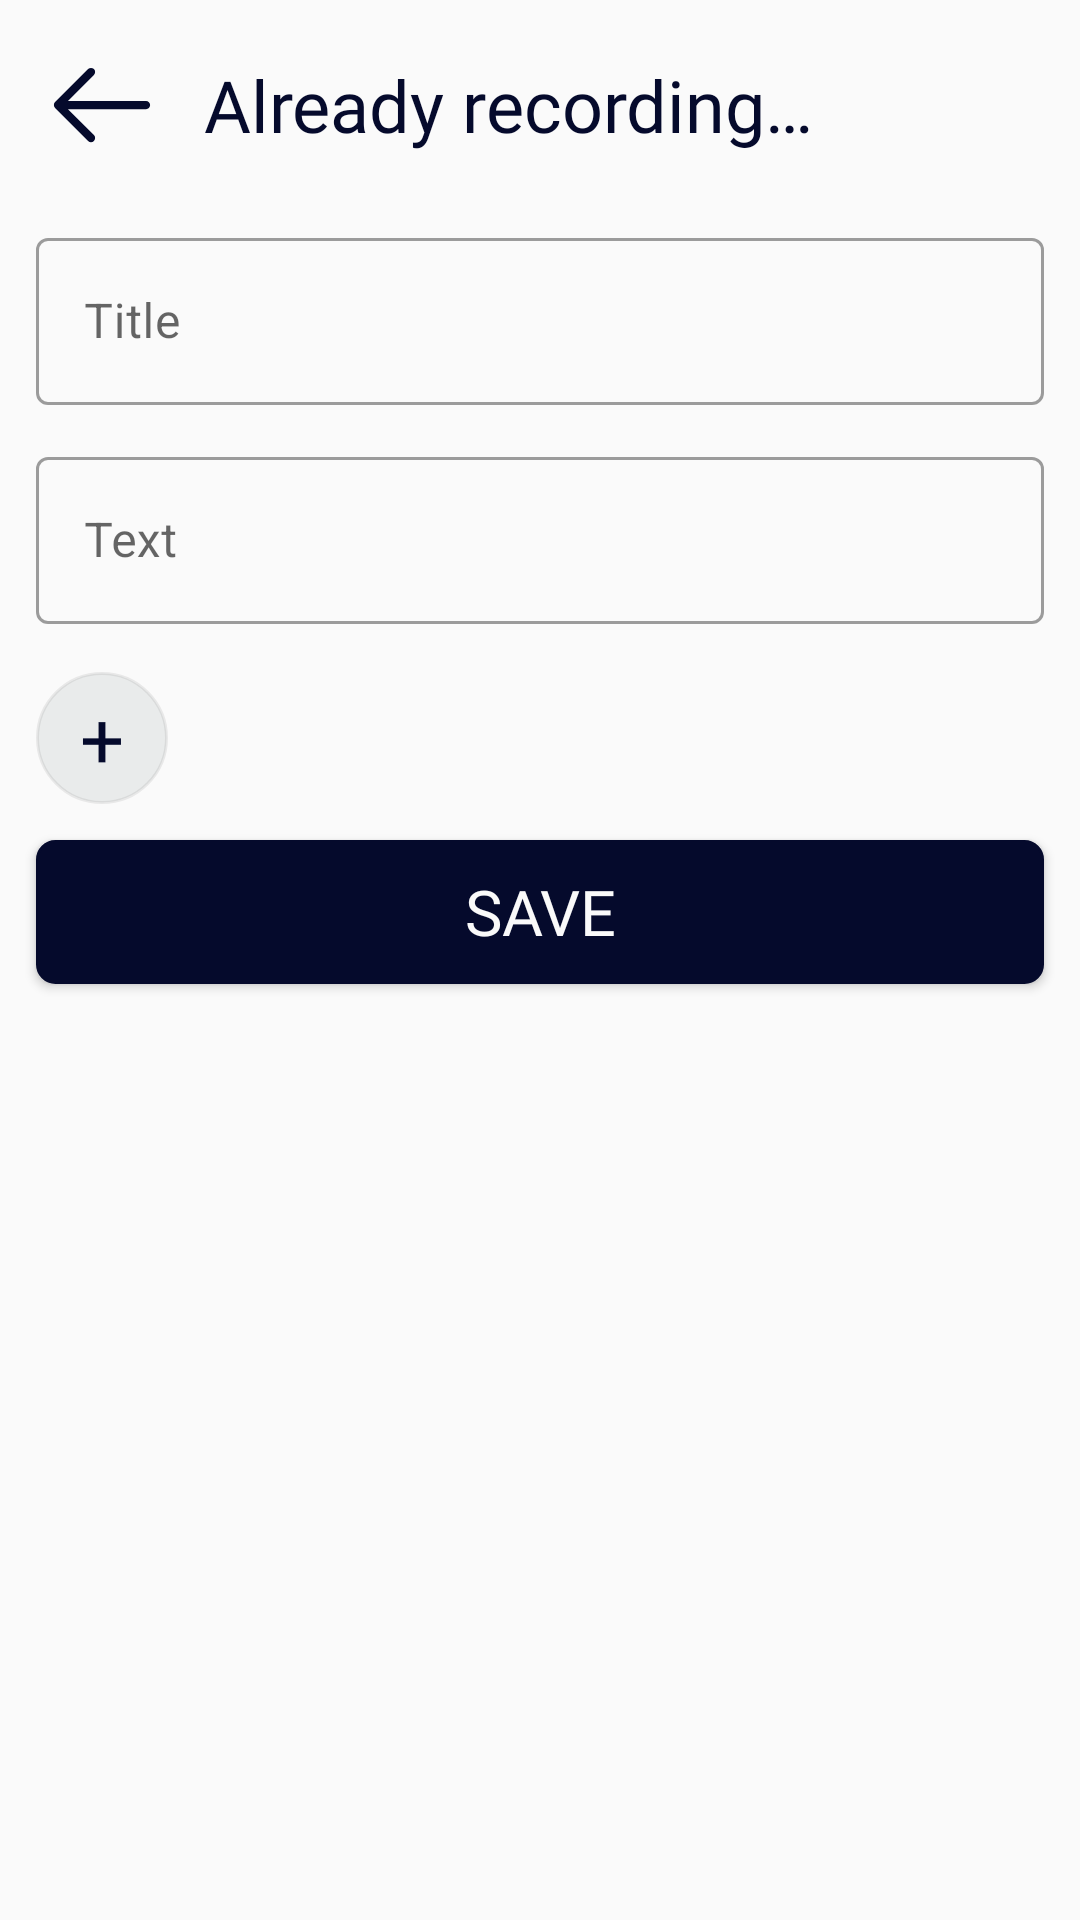

Point at icon controls on the screen. Image size 1080 × 1920, points as (x=x, y=y).
Back: (x=102, y=105)
